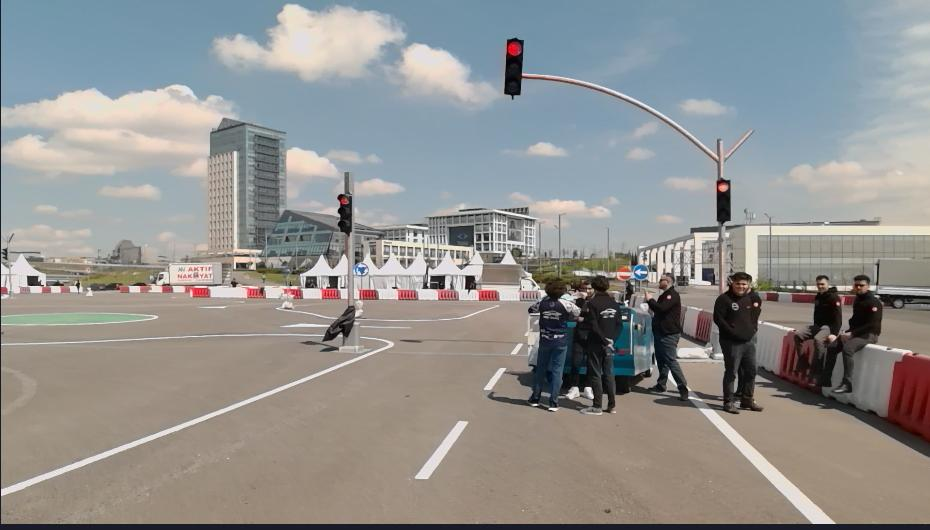nesne: (1, 298, 836, 528), (0, 298, 532, 530), (382, 319, 834, 525), (0, 333, 396, 497), (686, 382, 835, 524), (815, 272, 882, 393), (526, 274, 582, 408), (715, 269, 763, 413), (580, 274, 622, 414), (791, 275, 844, 384), (644, 271, 687, 402), (835, 341, 902, 419), (883, 348, 929, 446), (2, 331, 323, 345), (564, 279, 595, 400), (611, 304, 654, 390), (413, 416, 468, 477), (877, 253, 928, 308), (356, 287, 540, 302), (358, 304, 501, 323), (778, 330, 815, 400), (193, 286, 350, 300), (0, 312, 157, 326), (155, 260, 232, 285), (757, 320, 787, 379), (481, 261, 538, 286), (504, 37, 525, 100), (526, 302, 540, 367), (1, 284, 75, 296), (713, 176, 730, 227), (276, 306, 336, 320), (119, 282, 191, 293), (760, 290, 816, 304), (694, 308, 715, 344), (337, 192, 352, 235), (673, 344, 713, 358), (682, 305, 700, 336), (484, 366, 505, 388), (211, 287, 247, 299), (614, 264, 632, 282), (361, 323, 414, 329), (279, 321, 329, 327), (477, 288, 500, 301), (284, 287, 304, 301), (303, 286, 323, 300), (632, 264, 648, 281), (396, 289, 417, 301), (519, 289, 538, 302), (246, 287, 266, 299), (265, 287, 285, 299), (352, 298, 364, 318), (794, 293, 815, 304), (436, 289, 459, 299), (417, 289, 437, 300), (321, 288, 342, 298), (354, 262, 369, 276), (459, 289, 478, 300), (500, 289, 519, 300), (377, 289, 396, 299), (356, 289, 377, 298), (192, 287, 209, 297), (509, 341, 522, 353), (777, 292, 793, 301), (281, 299, 293, 310), (765, 291, 777, 301), (85, 283, 93, 297), (8, 285, 20, 293), (339, 289, 348, 299), (230, 275, 239, 285), (30, 286, 42, 293), (173, 286, 185, 293), (42, 285, 51, 294), (51, 286, 61, 294), (75, 279, 81, 292), (149, 286, 162, 292), (138, 285, 150, 291), (161, 286, 173, 292), (184, 285, 193, 293), (21, 286, 31, 293), (128, 285, 139, 291), (60, 286, 69, 293), (1, 286, 8, 294), (120, 286, 128, 292), (258, 287, 263, 296), (69, 285, 75, 292)
